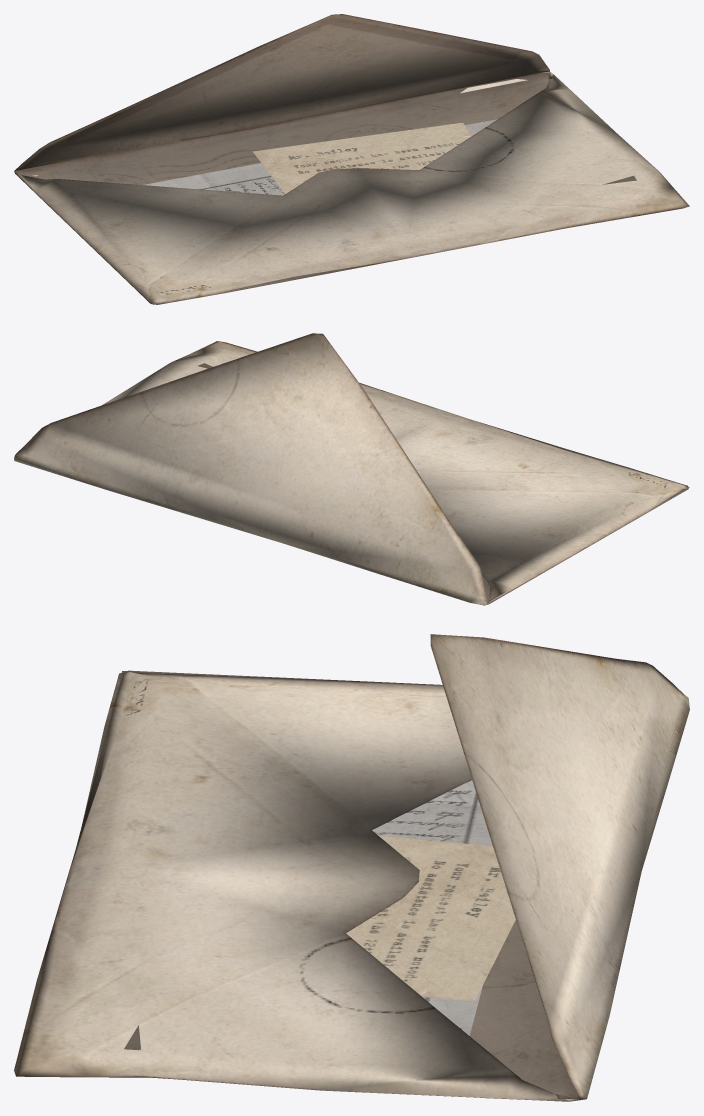
File: Opened Envelope A.fbx
3 renders of one model, top to bottom at view 1: azimuth 30°, elevation 25°; view 2: azimuth 150°, elevation 25°; view 3: azimuth 270°, elevation 25°, orthographic. The views are drawn at different scales.
Visible parts, largest first — view 1: Opened Envelope A; view 2: Opened Envelope A; view 3: Opened Envelope A.
Boxes of the visible parts, x1,y1,x2,y2 form: Opened Envelope A: [14, 14, 689, 304]; Opened Envelope A: [14, 333, 689, 605]; Opened Envelope A: [14, 634, 689, 1101].
Bounding box in the file's own units: 17.69 × 5.08 × 11.72.
Materials: 1 (1 with a texture image).
